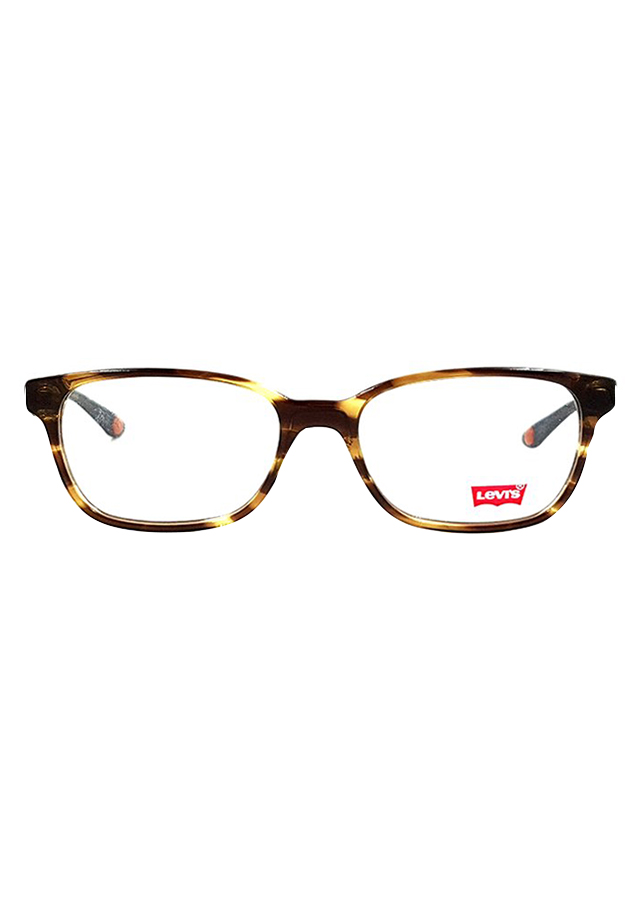Levi's: (464, 473, 530, 510)
